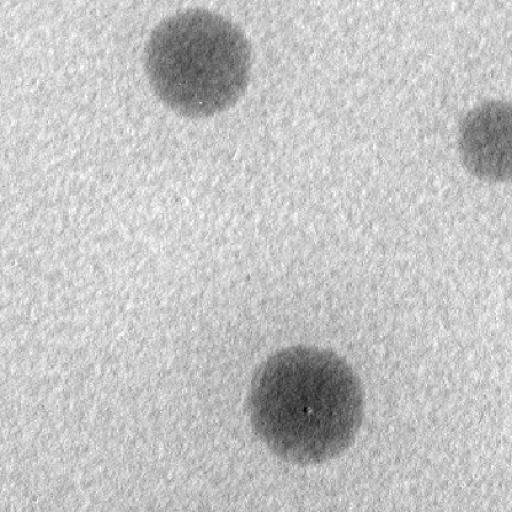Nanoparticles: (245, 341, 367, 465), (143, 7, 253, 113), (458, 101, 512, 184)
